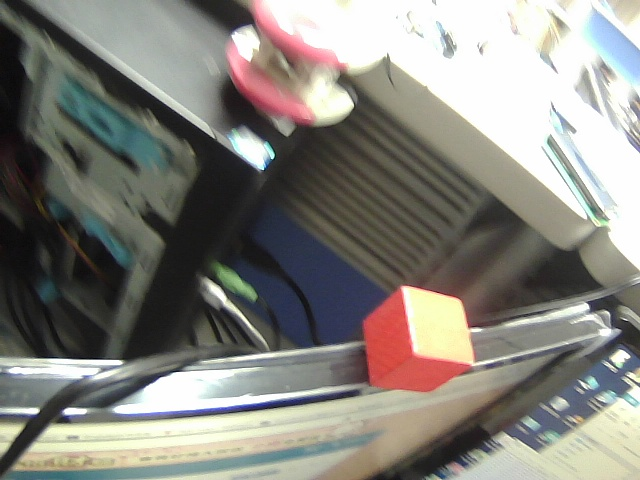redbox: (361, 279, 485, 406)
